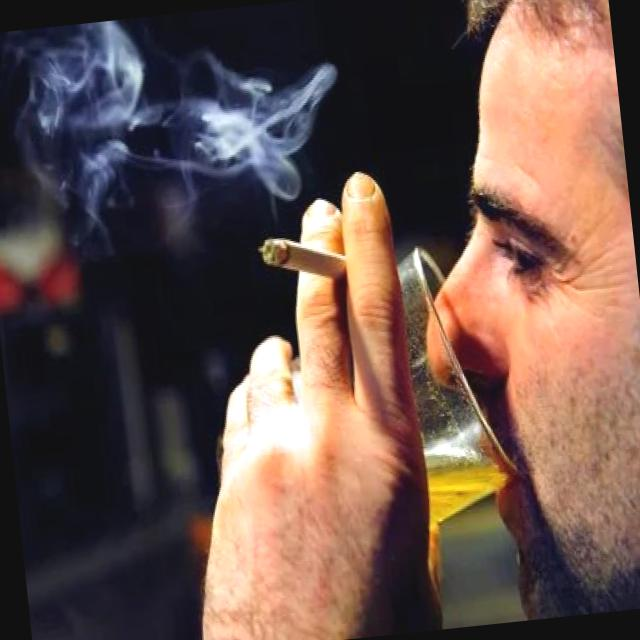cigarette: (256, 225, 354, 300)
